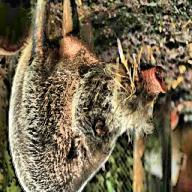boar: (7, 1, 167, 192)
